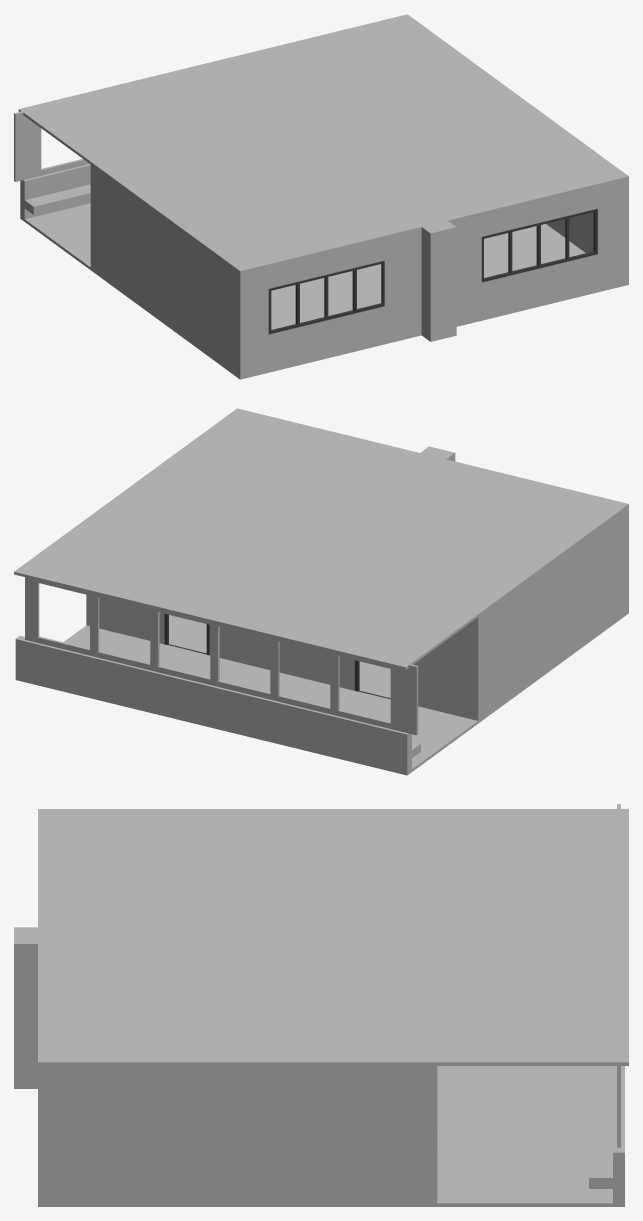
The model's file is ClassRoom2_461.fbx.
3 renders of one model, top to bottom at view 1: azimuth 30°, elevation 25°; view 2: azimuth 150°, elevation 25°; view 3: azimuth 270°, elevation 25°, orthographic. The views are drawn at different scales.
Parts seen in each view (by area): view 1: ClassRoom2_461.001; view 2: ClassRoom2_461.001; view 3: ClassRoom2_461.001.
Boxes of the visible parts, x1,y1,x2,y2 form: ClassRoom2_461.001: (14, 14, 628, 379); ClassRoom2_461.001: (14, 408, 628, 775); ClassRoom2_461.001: (14, 804, 628, 1206).
Size of the model in its own units: 15.3 by 4 by 15.4.
1 material, 1 textured.
